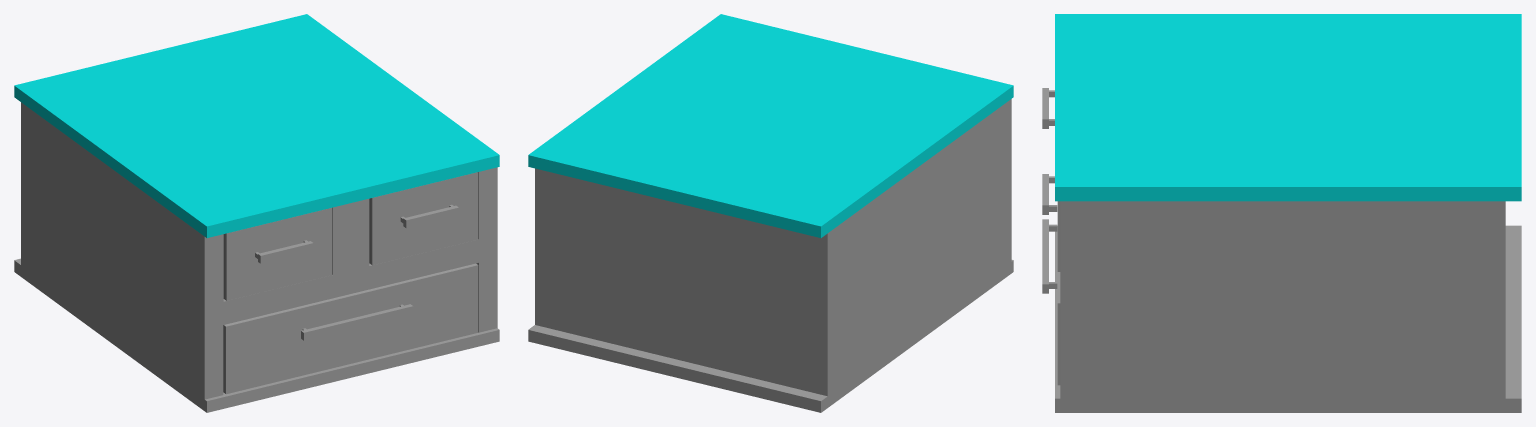
Rendered from labcounter1.fbx.
The picture shows the model from 3 angles, left to right: view 1: azimuth 30°, elevation 25°; view 2: azimuth 150°, elevation 25°; view 3: azimuth 270°, elevation 25°; orthographic projection. The views are drawn at different scales.
Visible parts, largest first — view 1: polySurface1; view 2: polySurface1; view 3: polySurface1.
Part boxes in pixels (<box>): polySurface1: <box>14,14,499,412</box>; polySurface1: <box>528,14,1013,412</box>; polySurface1: <box>1042,14,1521,412</box>.
Bounding box in the file's own units: 91.93 × 55.92 × 108.
